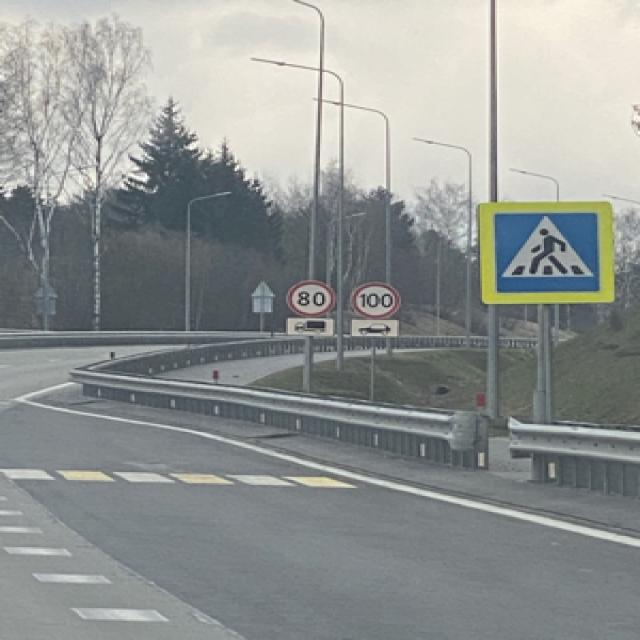crosswalk: (488, 208, 600, 291)
speedlimit: (348, 280, 397, 315), (284, 278, 330, 314)
